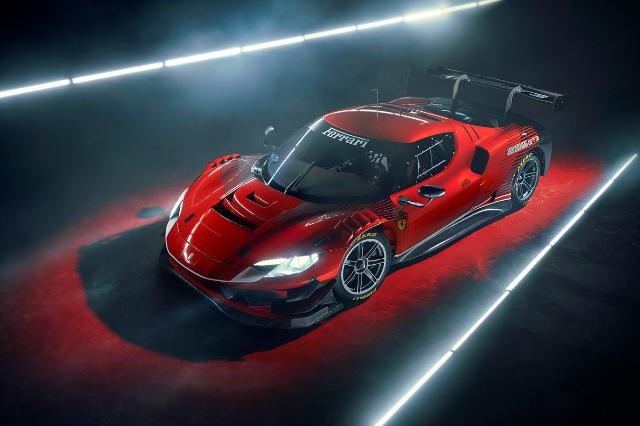ferrari: (158, 64, 568, 332)
